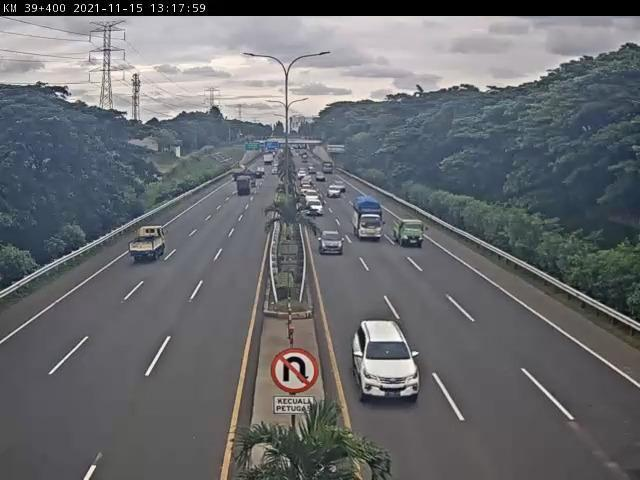car: (351, 320, 423, 406), (320, 230, 347, 257), (306, 198, 325, 216)
truck: (129, 226, 167, 265), (354, 196, 385, 243), (392, 215, 427, 248)
